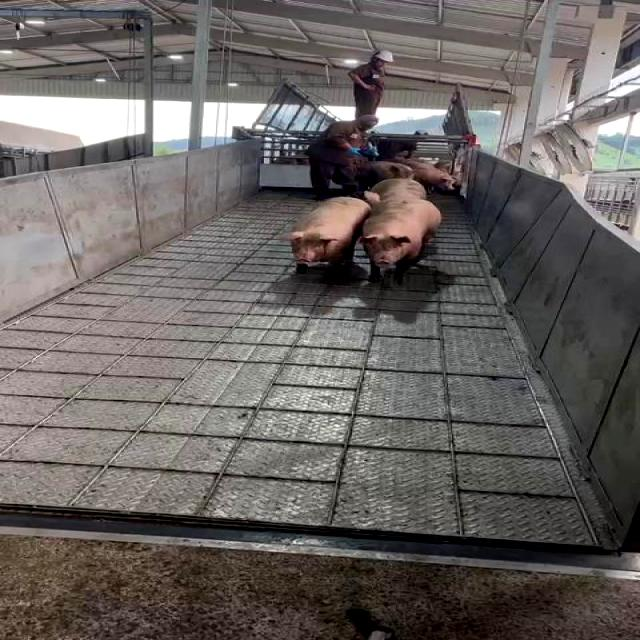pig: (278, 197, 371, 271), (361, 199, 440, 282), (364, 179, 427, 210)
